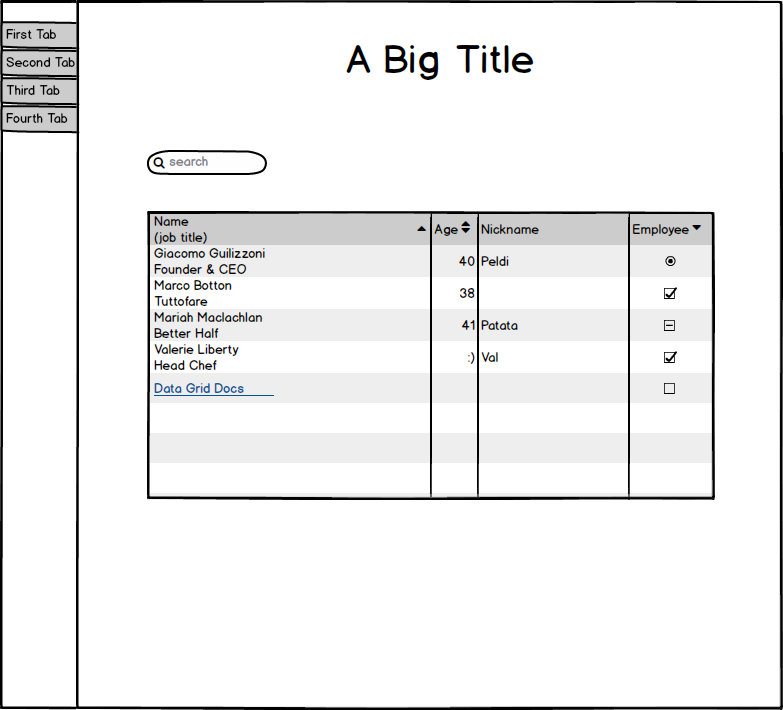h1: (335, 38, 544, 83)
search: (145, 146, 273, 177)
sidebar: (2, 13, 78, 146)
table: (141, 208, 722, 502)
